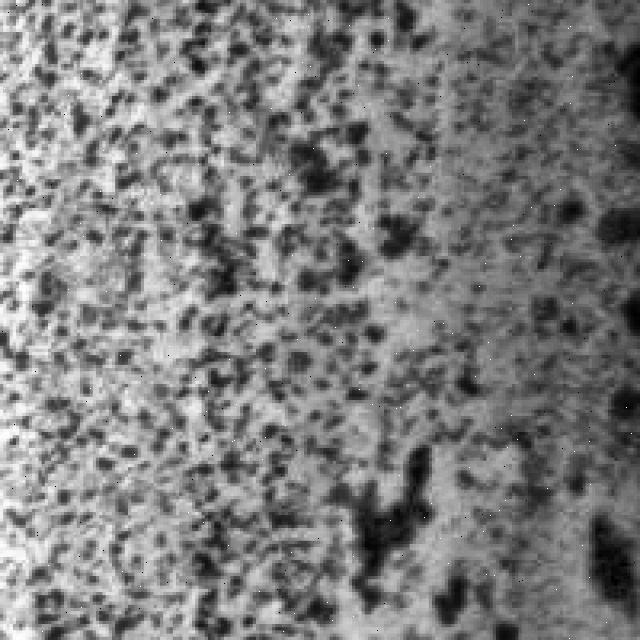Rolled_in_Scale: (12, 6, 548, 637)
